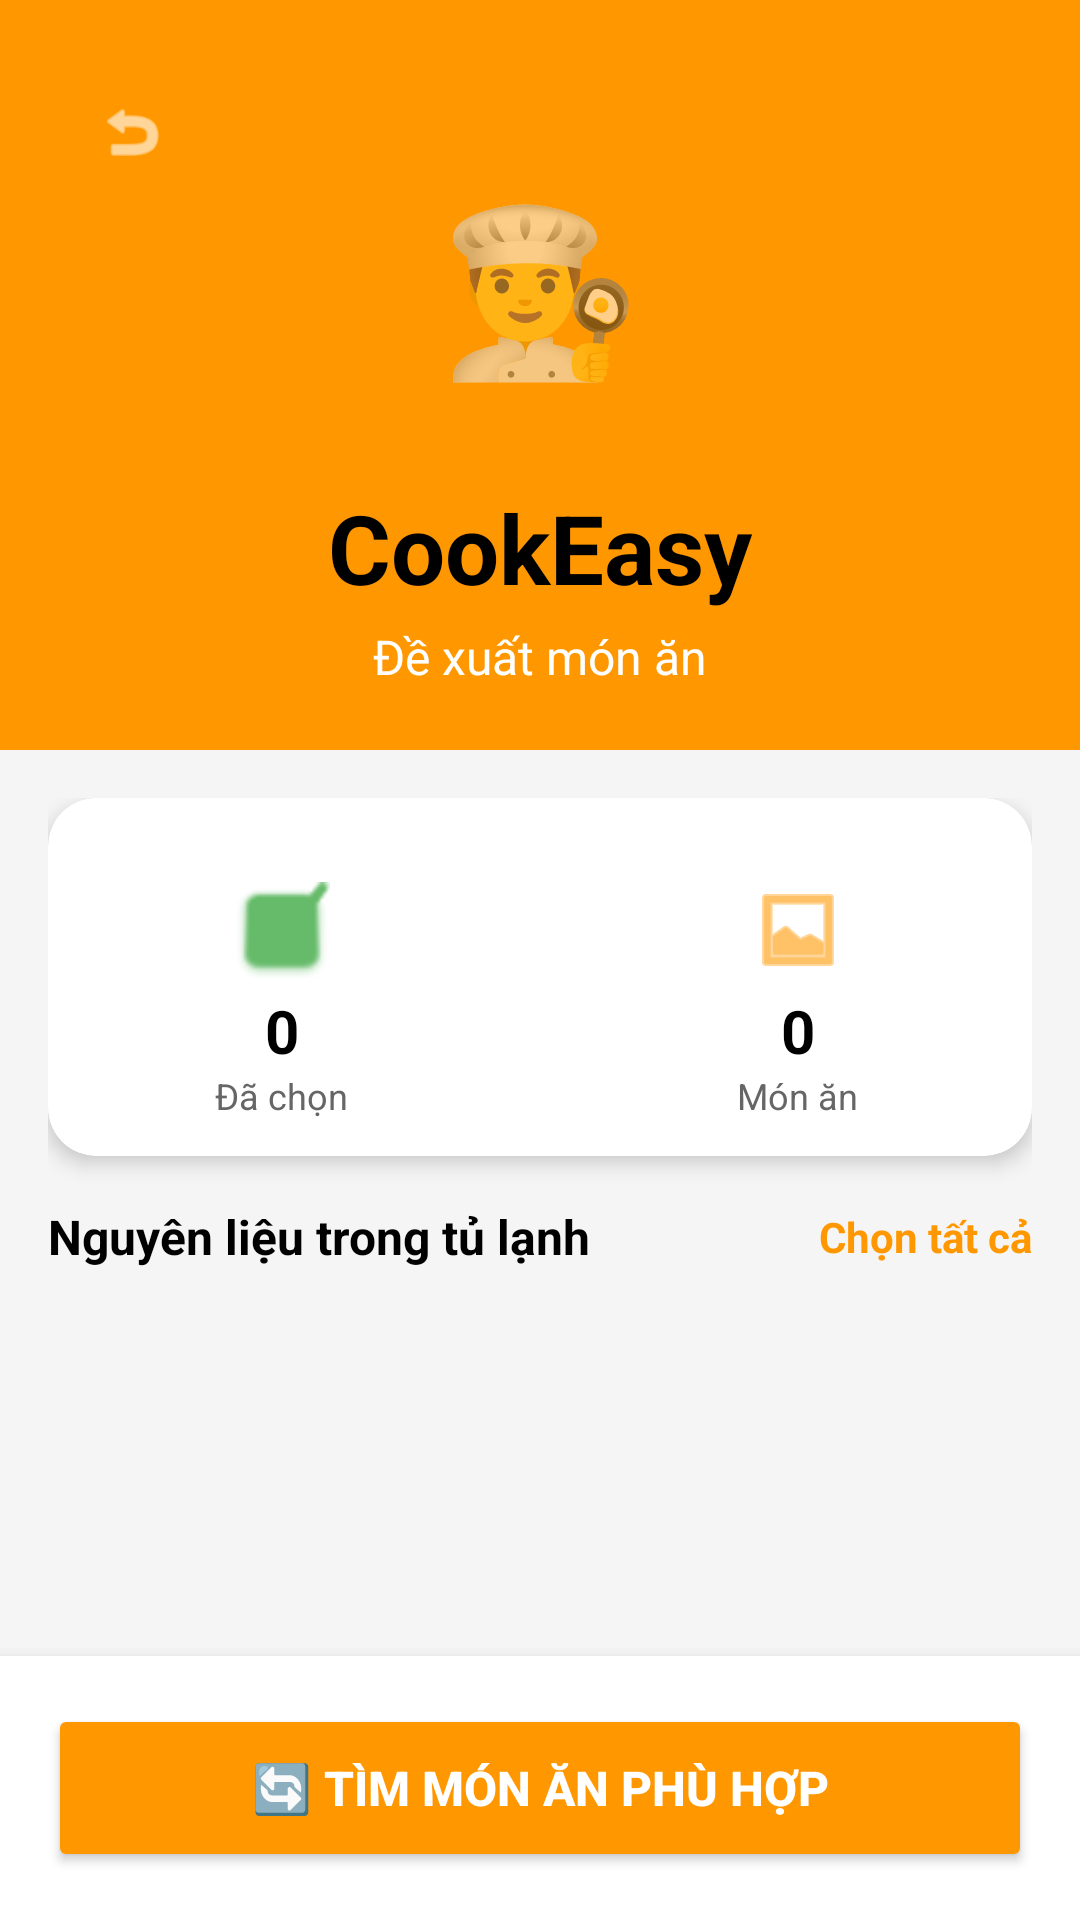

Point at icon controls on the screen. Image size 1080px×1920px, points as (x=x, y=y).
revert: (x=133, y=132)
